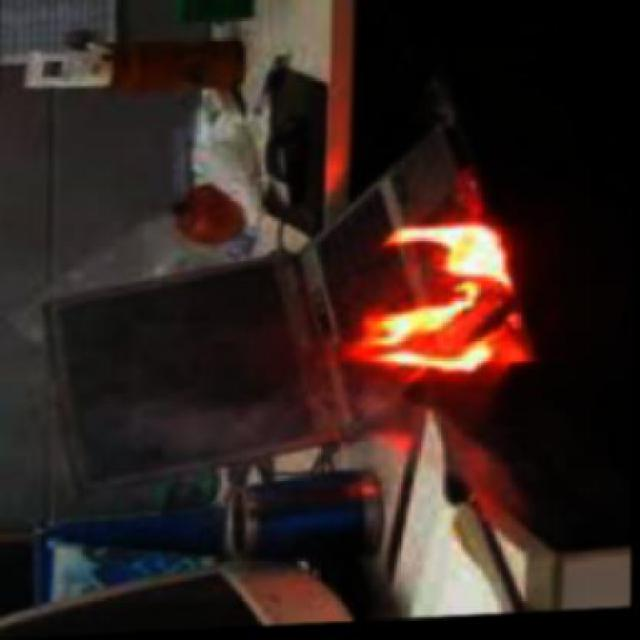fire: (323, 209, 528, 404)
